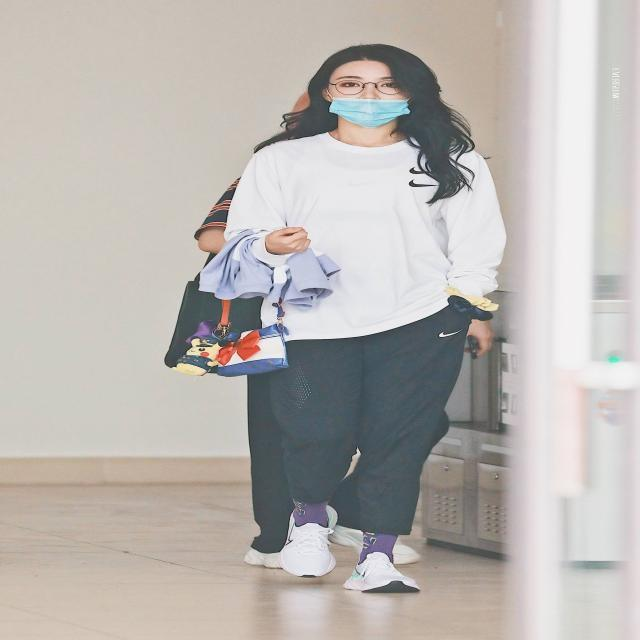hairnet: (328, 67, 406, 125)
